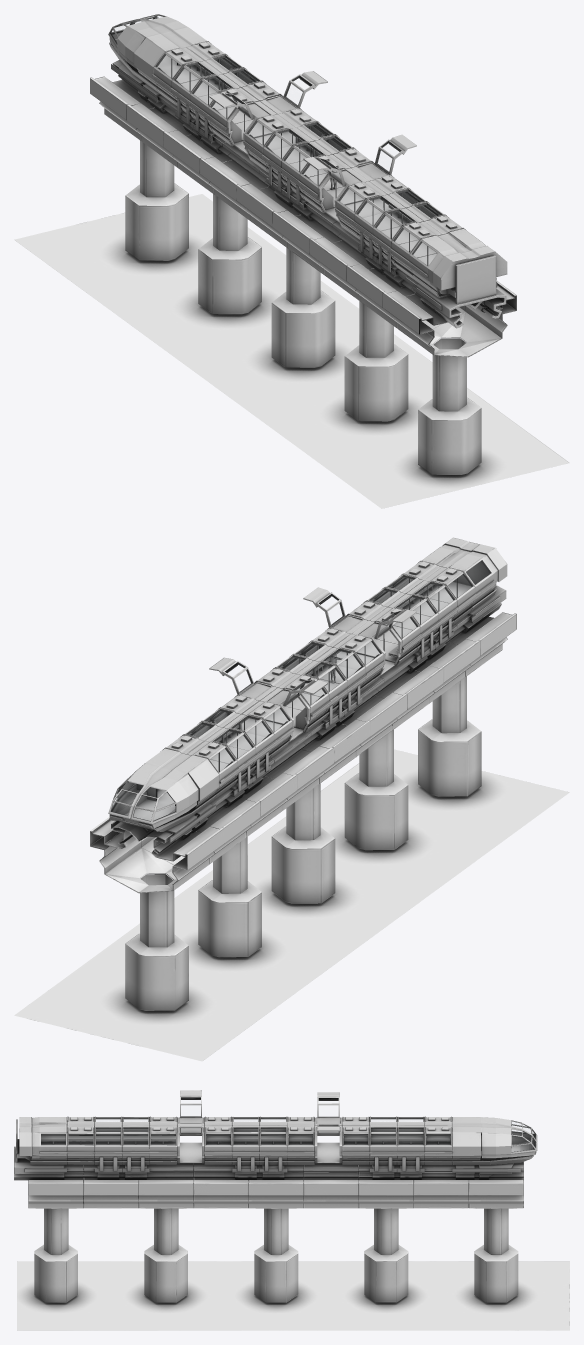
Rendered from train.glb.
3 renders of one model, top to bottom at view 1: azimuth 30°, elevation 25°; view 2: azimuth 150°, elevation 25°; view 3: azimuth 270°, elevation 25°, orthographic. The views are drawn at different scales.
Visible parts, largest first — view 1: Plane.016; view 2: Plane.016; view 3: Plane.016.
Part boxes in pixels (bbox=[...]): Plane.016: bbox=[14, 14, 569, 508]; Plane.016: bbox=[14, 537, 569, 1061]; Plane.016: bbox=[14, 1090, 569, 1330].
Bounding box in the file's own units: 11.89 × 15.04 × 40.42.
Materials: 4 (3 with a texture image).
